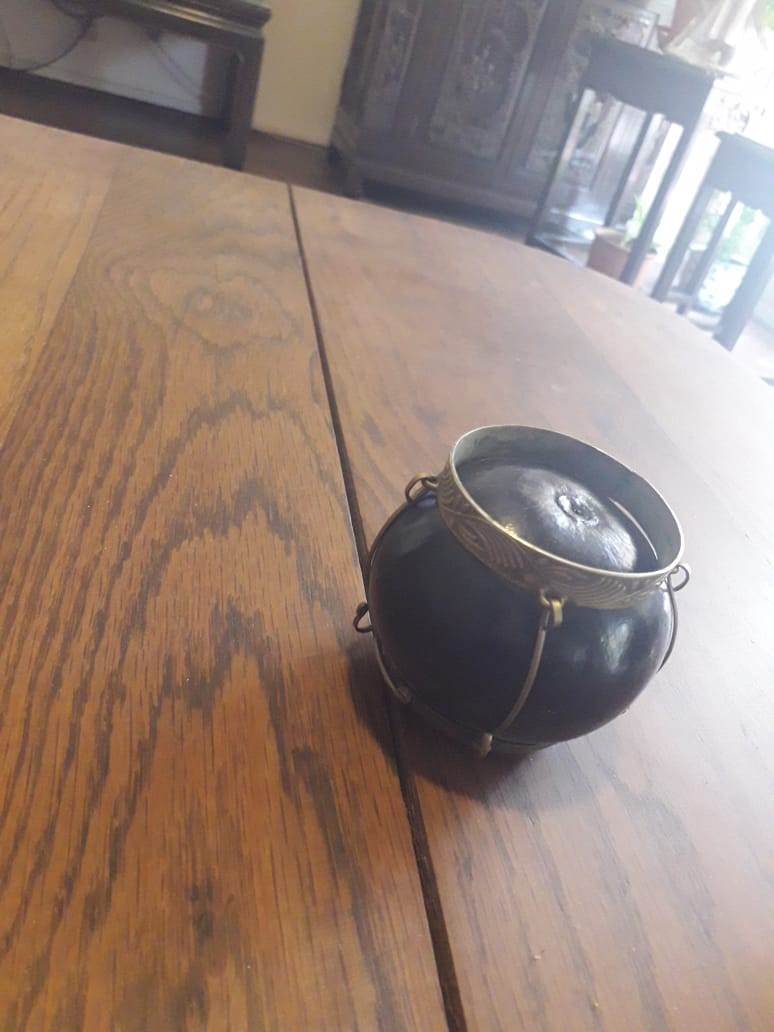calabaza: (346, 417, 693, 768)
mate: (348, 419, 695, 770)
